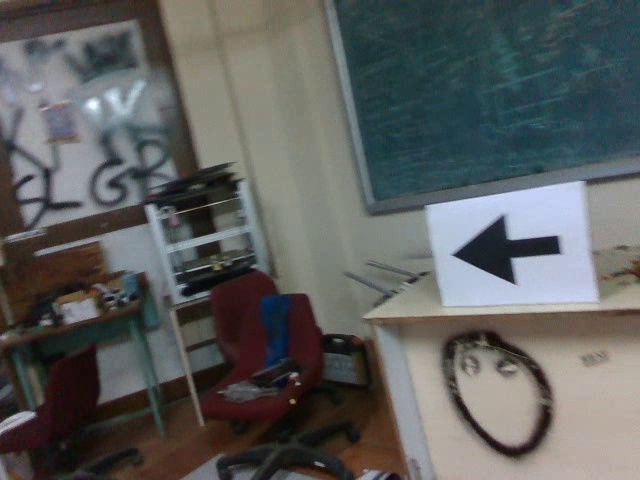Left: (445, 206, 565, 288)
